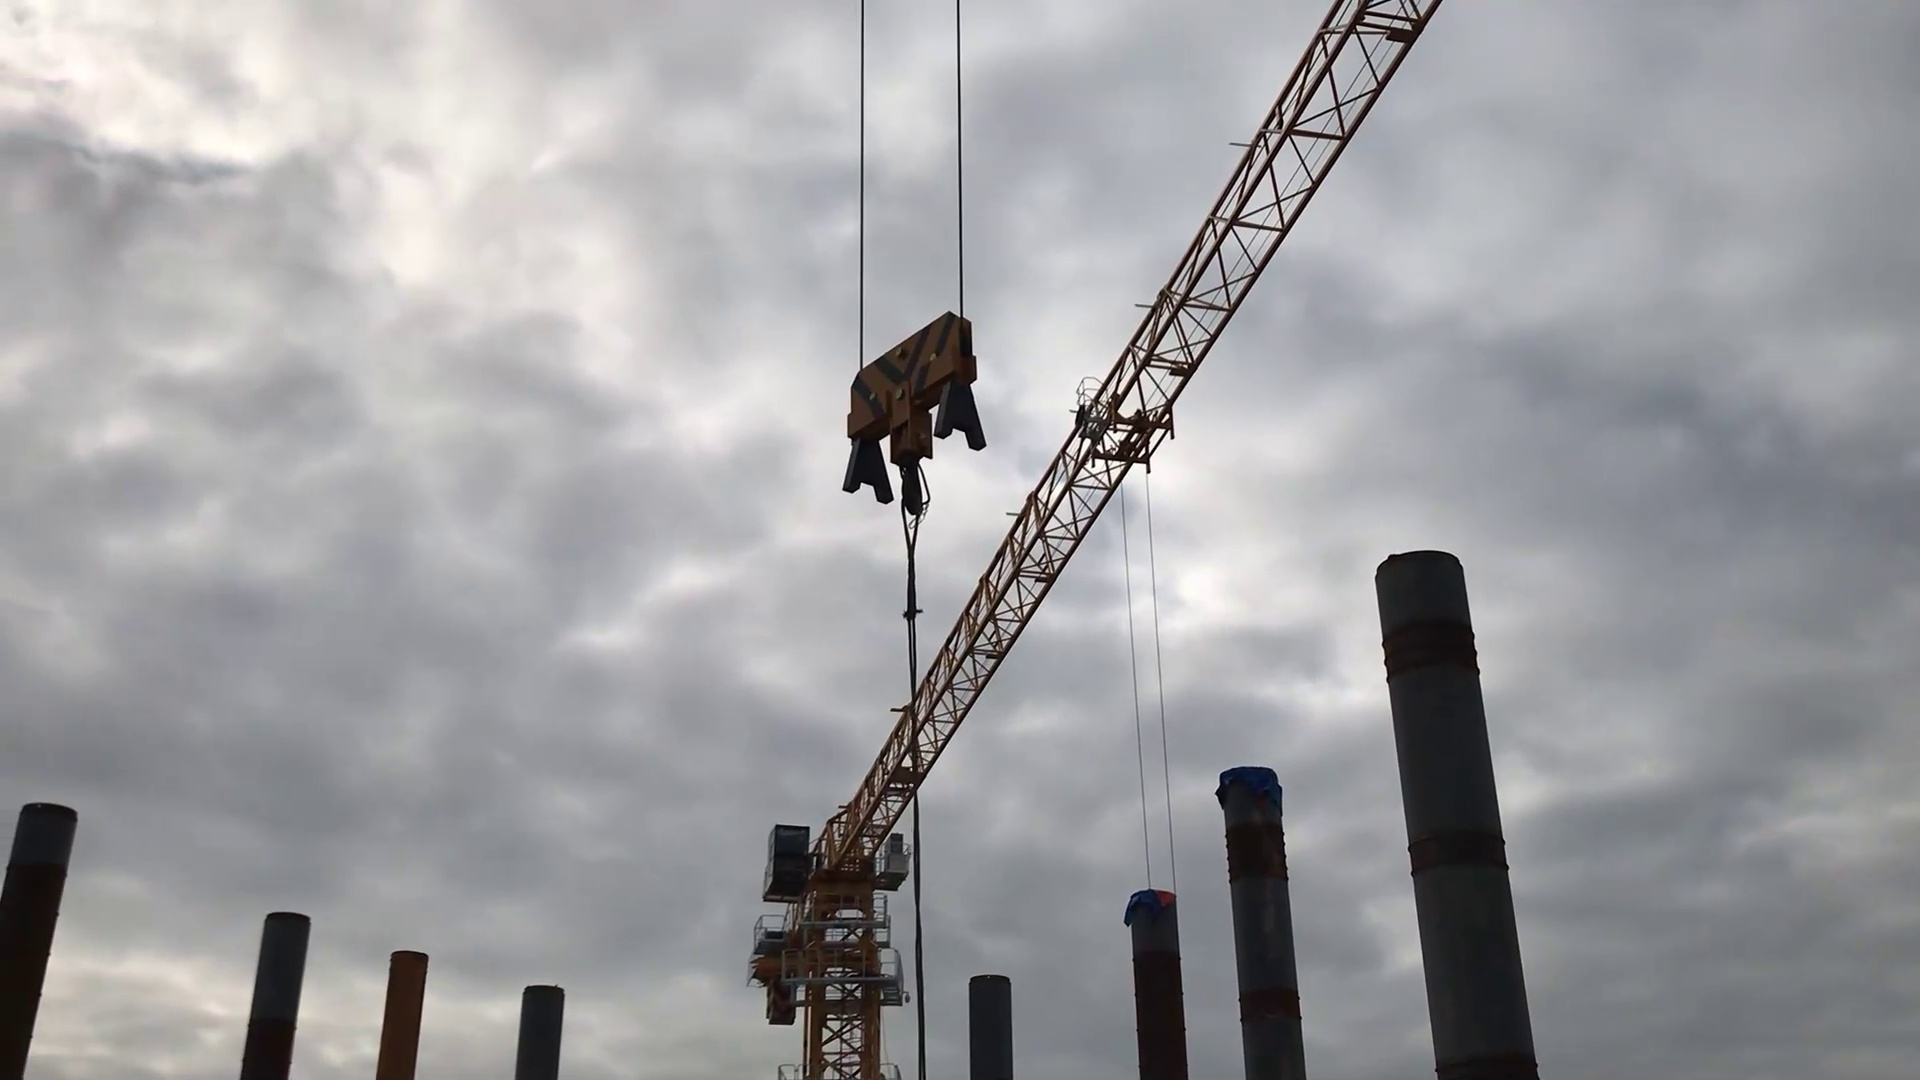hook: (829, 305, 1000, 524)
